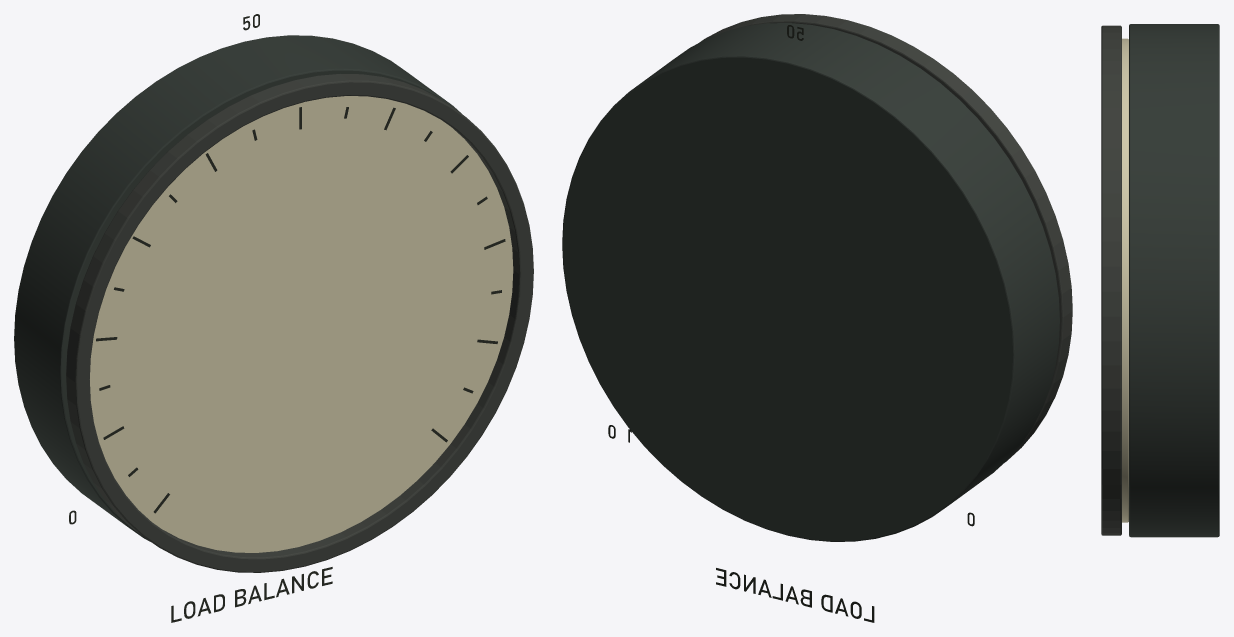
File: BALANCE_Housing.fbx
3 views of the same model, side by side, from view 1: azimuth 30°, elevation 25°; view 2: azimuth 150°, elevation 25°; view 3: azimuth 270°, elevation 25° (orthographic). The views are drawn at different scales.
Visible parts, largest first — view 1: BALANCE_Housing_EXPORT; view 2: BALANCE_Housing_EXPORT; view 3: BALANCE_Housing_EXPORT.
Boxes of the visible parts, bbox=[...] form: BALANCE_Housing_EXPORT: bbox=[14, 14, 533, 622]; BALANCE_Housing_EXPORT: bbox=[562, 14, 1072, 622]; BALANCE_Housing_EXPORT: bbox=[1101, 24, 1219, 537].
Size of the model in its own units: 0.352 by 0.4291 by 0.081.
